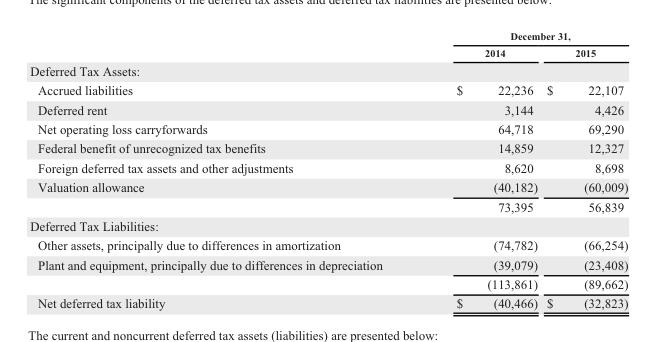table: (29, 28, 627, 311)
table column: (29, 28, 418, 311), (418, 28, 541, 311), (541, 28, 627, 311)
table column header: (29, 28, 627, 60)
table projected row header: (29, 60, 627, 80), (29, 215, 627, 235)
table row: (29, 60, 627, 80), (29, 118, 627, 138), (29, 176, 627, 196), (29, 215, 627, 235), (29, 273, 627, 293), (29, 80, 627, 99), (29, 99, 627, 118), (29, 138, 627, 157), (29, 157, 627, 176), (29, 196, 627, 215), (29, 235, 627, 254), (29, 254, 627, 273), (29, 293, 627, 311), (29, 43, 627, 60), (29, 28, 627, 43)
table spanning cell: (418, 28, 627, 43)
